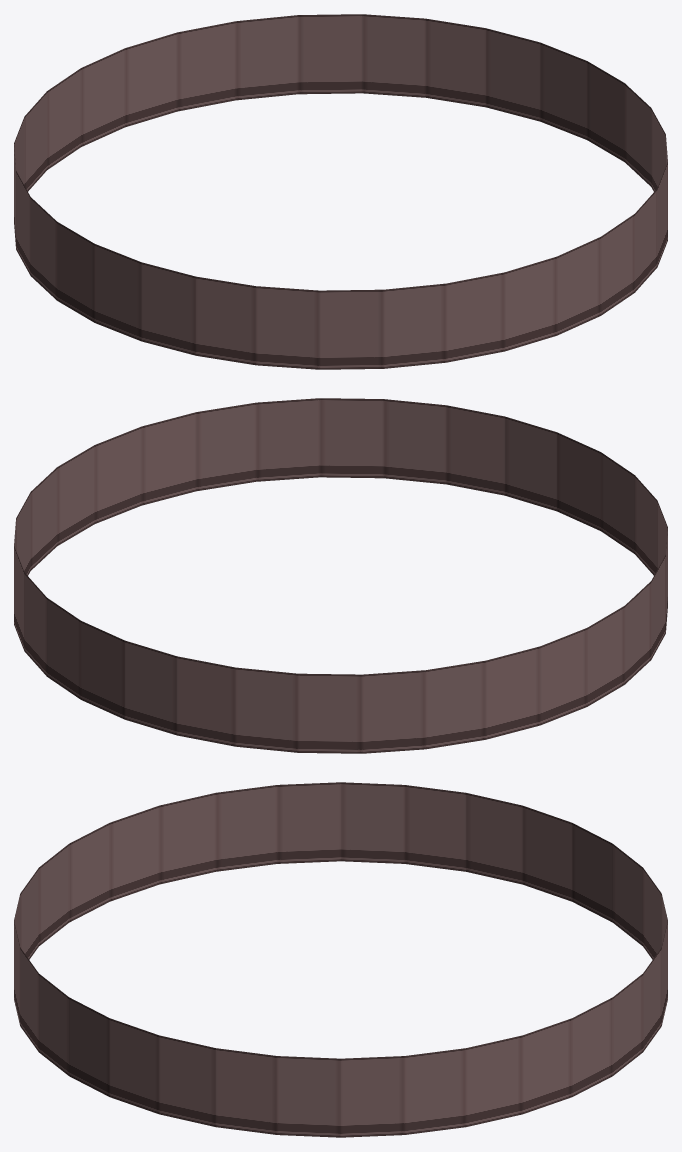
The model's file is wall.obj.
The picture shows the model from 3 angles, top to bottom: view 1: azimuth 30°, elevation 25°; view 2: azimuth 150°, elevation 25°; view 3: azimuth 270°, elevation 25°; orthographic projection.
Parts seen in each view (by area): view 1: 円柱; view 2: 円柱; view 3: 円柱.
Part boxes in pixels (x1,y1,x2,y2): 円柱: (14,14,667,369); 円柱: (14,398,667,753); 円柱: (14,782,667,1137).
Size of the model in its own units: 150 by 20 by 150.
Materials: 1 (1 with a texture image).
